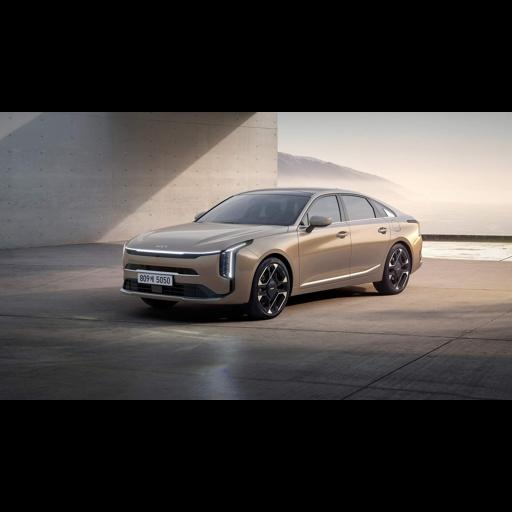hatchback: (121, 188, 421, 317)
